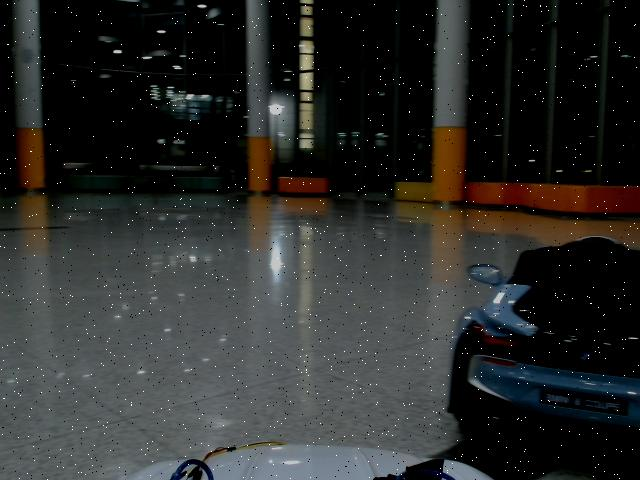car: (448, 236, 640, 443)
